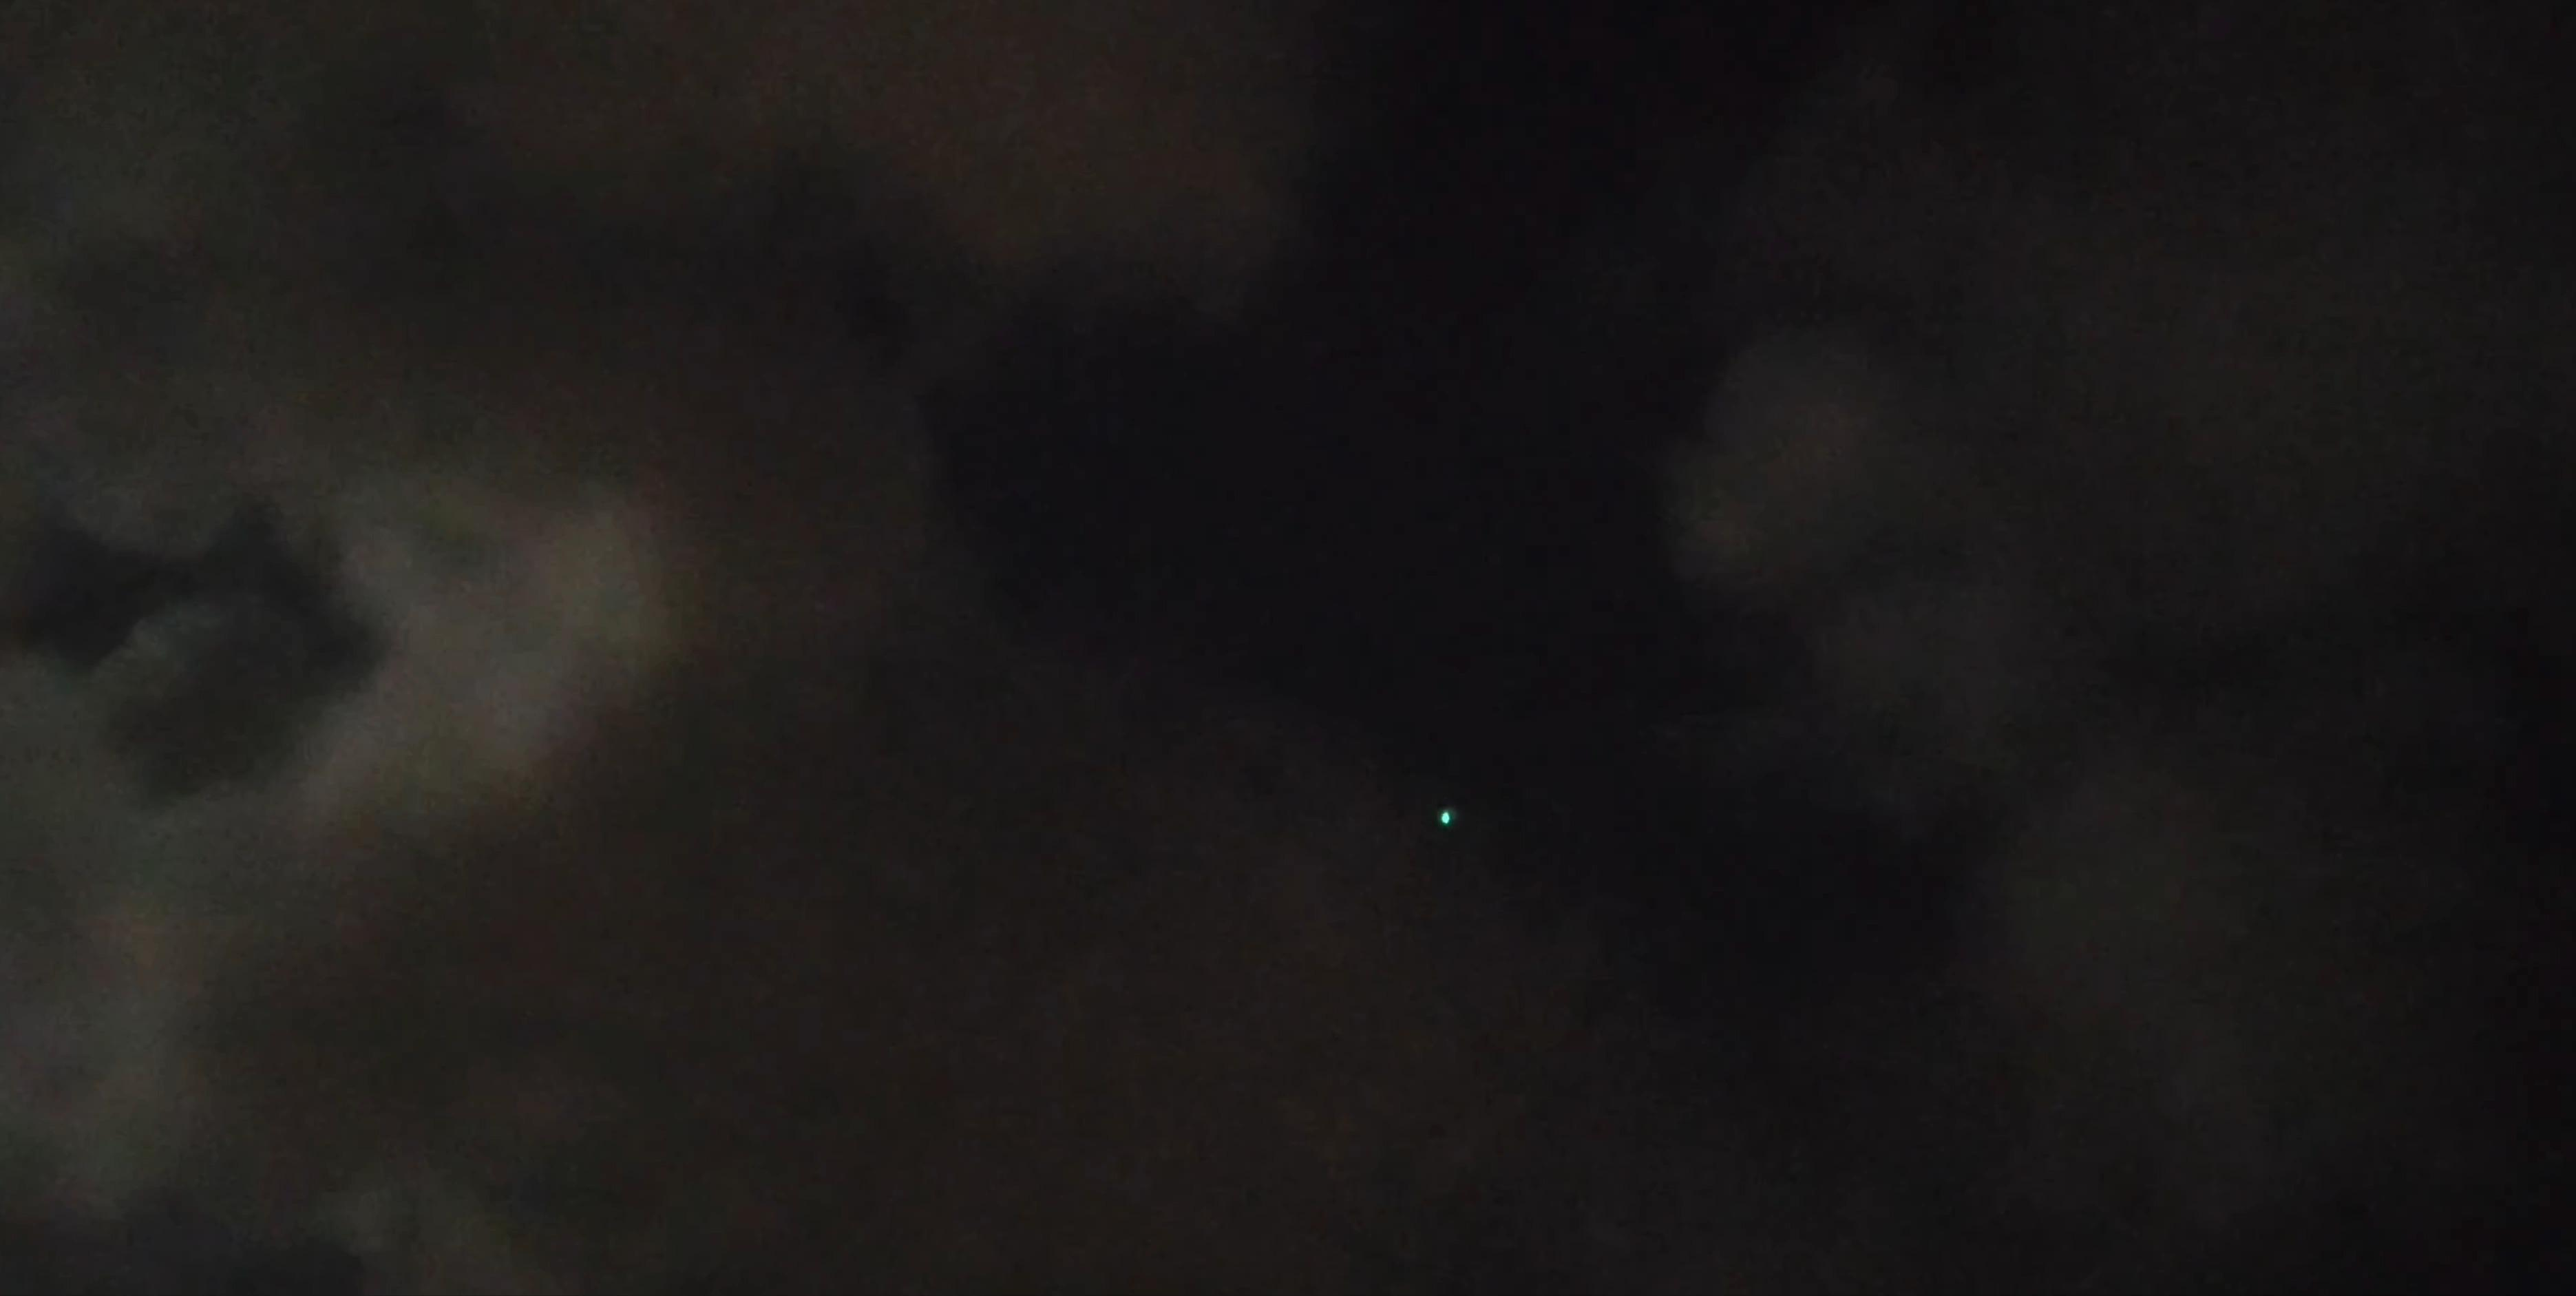Plane: (1414, 797, 1477, 843)
